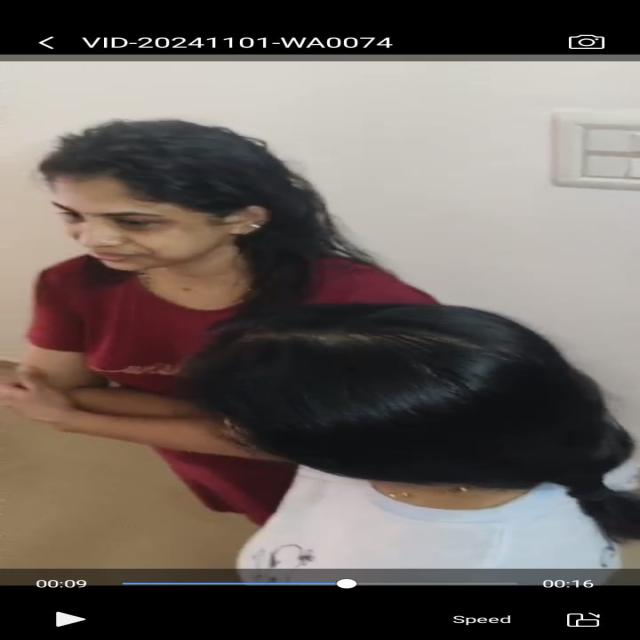humans: (0, 108, 402, 492), (189, 292, 640, 568)
